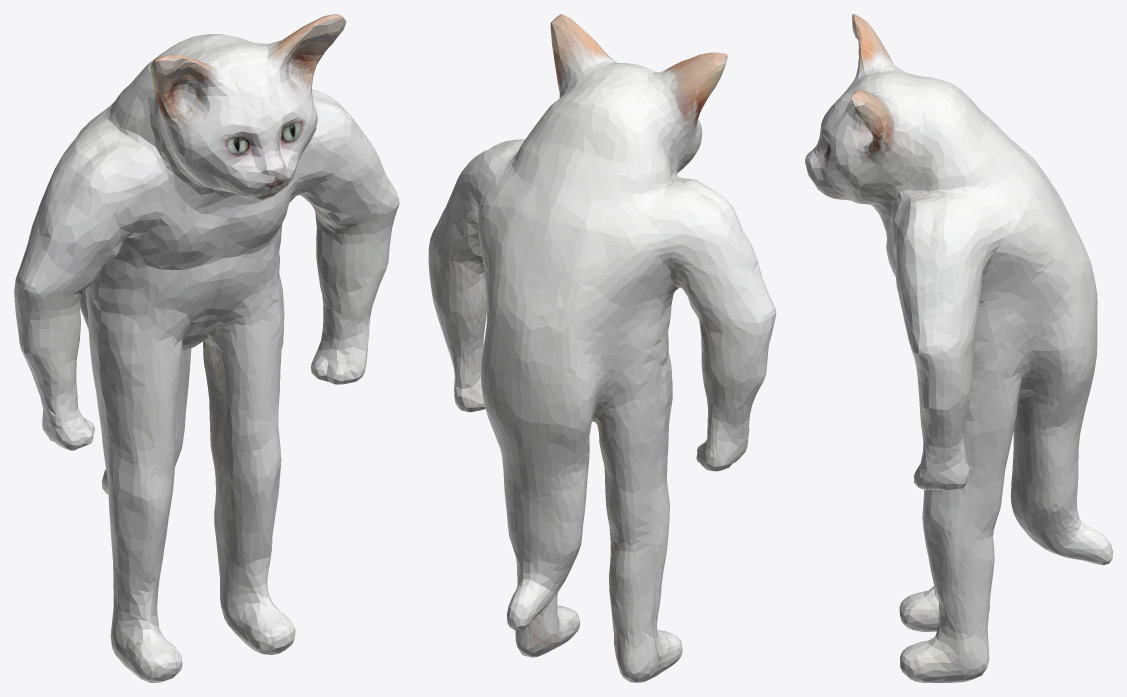
The model's file is Muscle_Cat_0425135947_texture.fbx.
3 views of the same model, side by side, from view 1: azimuth 30°, elevation 25°; view 2: azimuth 150°, elevation 25°; view 3: azimuth 270°, elevation 25° (orthographic). The views are drawn at different scales.
Visible parts, largest first — view 1: temp; view 2: temp; view 3: temp.
Part boxes in pixels (x1,y1,x2,y2): temp: [14, 14, 399, 682]; temp: [428, 14, 776, 682]; temp: [805, 14, 1112, 682].
Bounding box in the file's own units: 119 × 200 × 92.82.
1 material, 1 textured.
